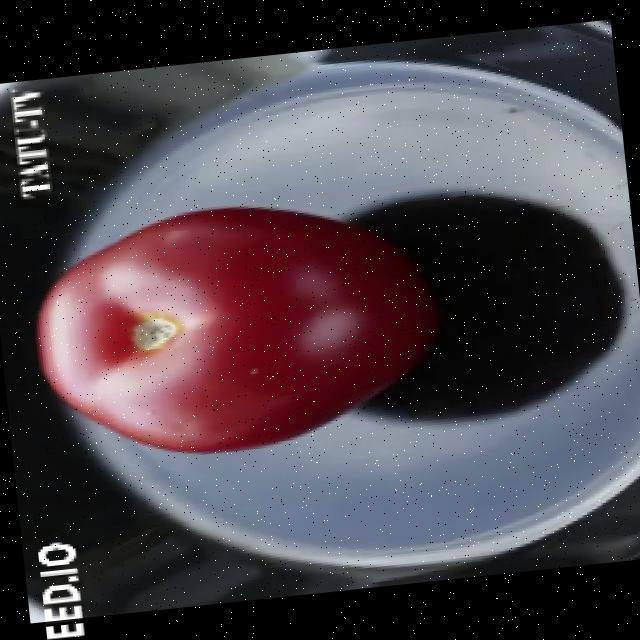tomato: (44, 205, 432, 455)
